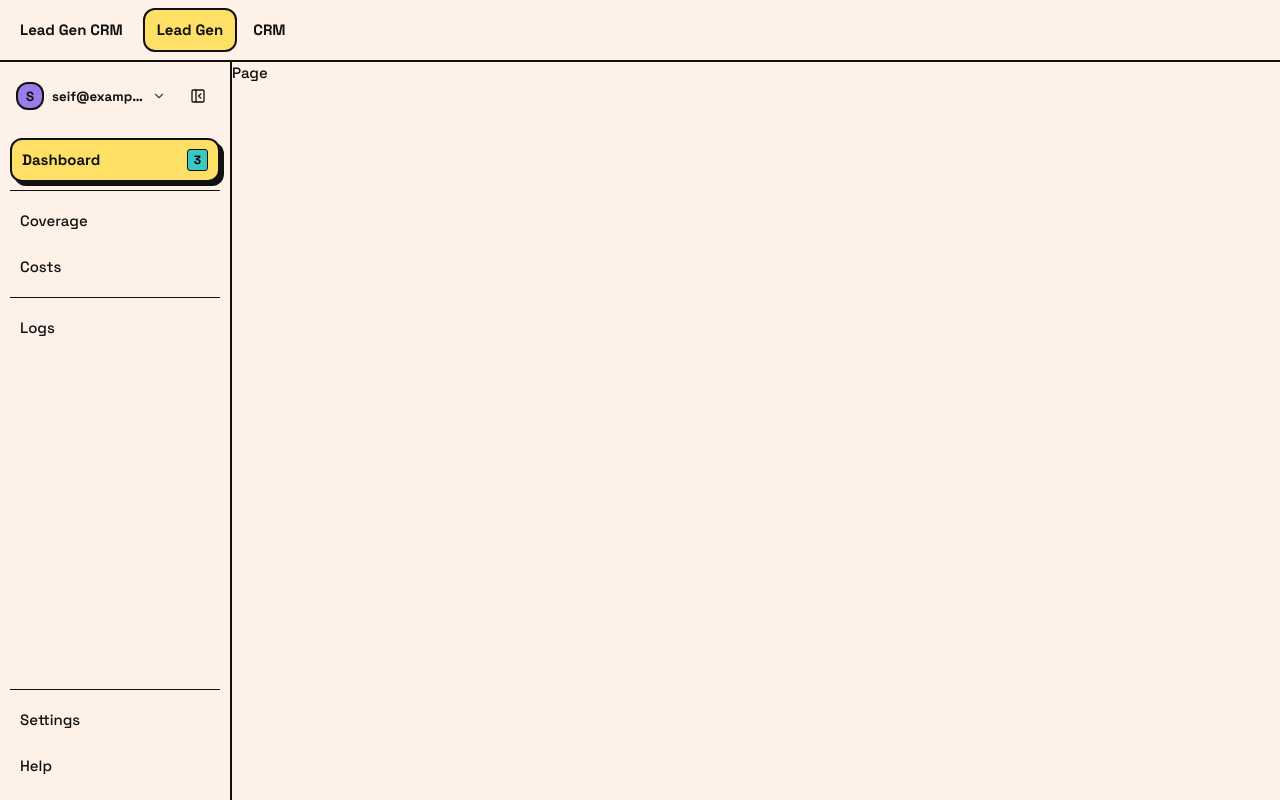
AppShell › has the profile at the top of the sidebar, opening a menu with a chevron button
The width and height of the screenshot is (1280, 800).
Expected: the button "Sign out" is not shown
Click the button "S seif@example.test".
click(91, 96)  # box [10,74,172,118]
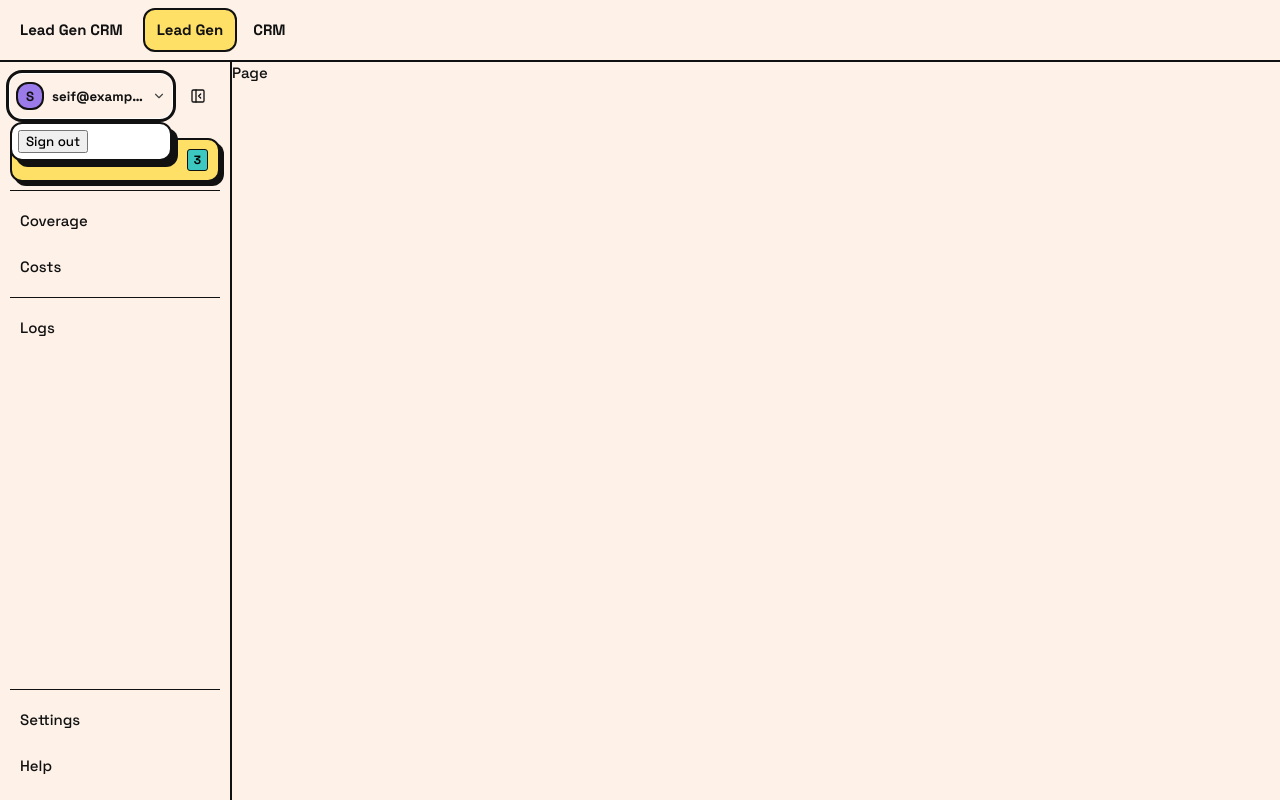
Now the button "Sign out" is shown, box [18,130,88,153]
Press Escape
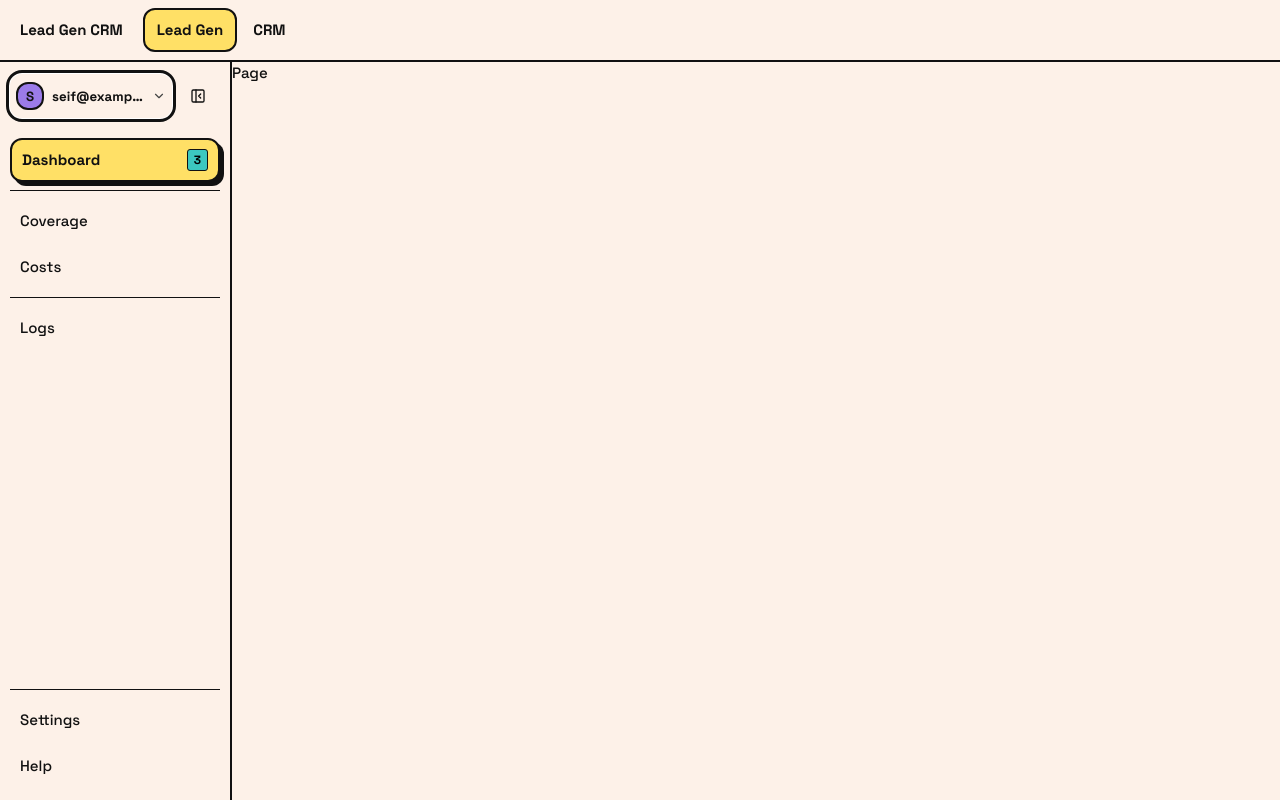
Now the button "Sign out" is gone
